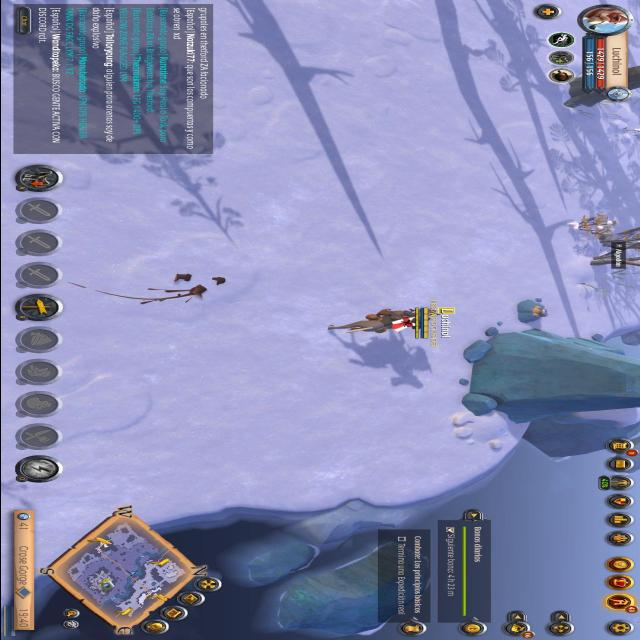piedra_cobre: (516, 299, 546, 321)
